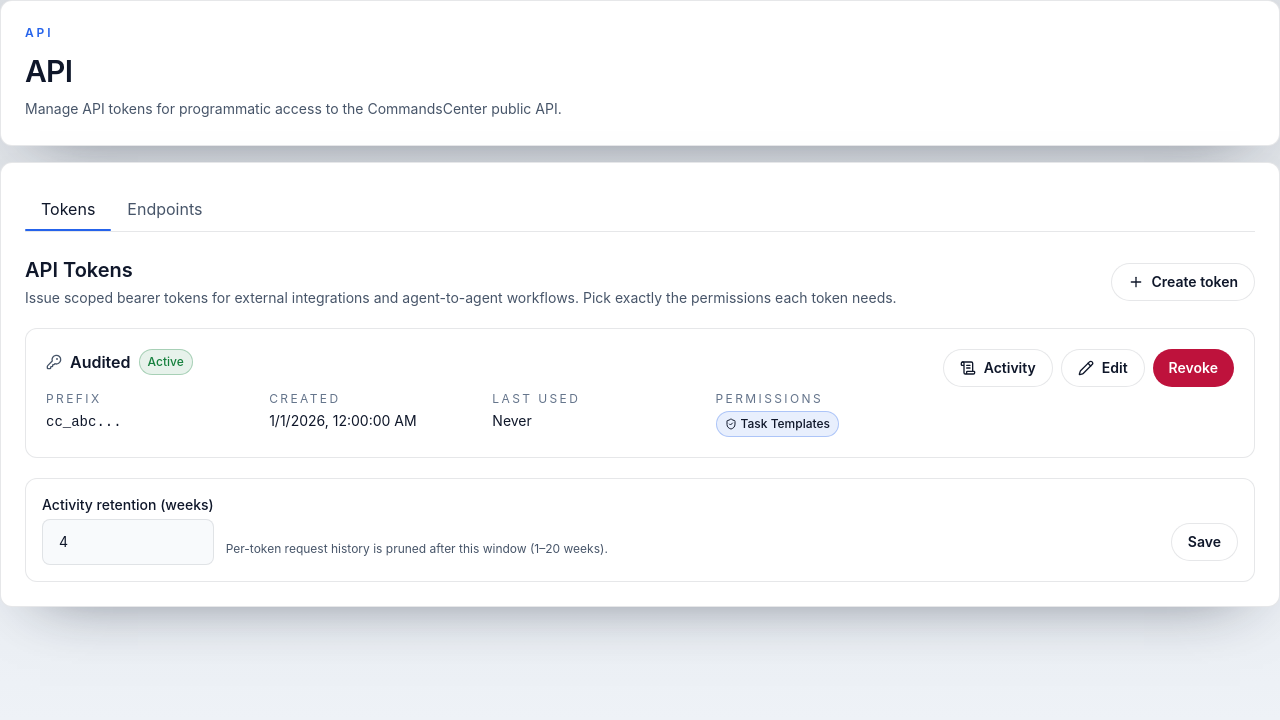
ApiPage › opens a token's activity dialog and lists its entries
Expected: the heading "Audited" is shown, [70,350,130,374]
Click the button "Activity": x=998, y=368 [943,349,1053,387]
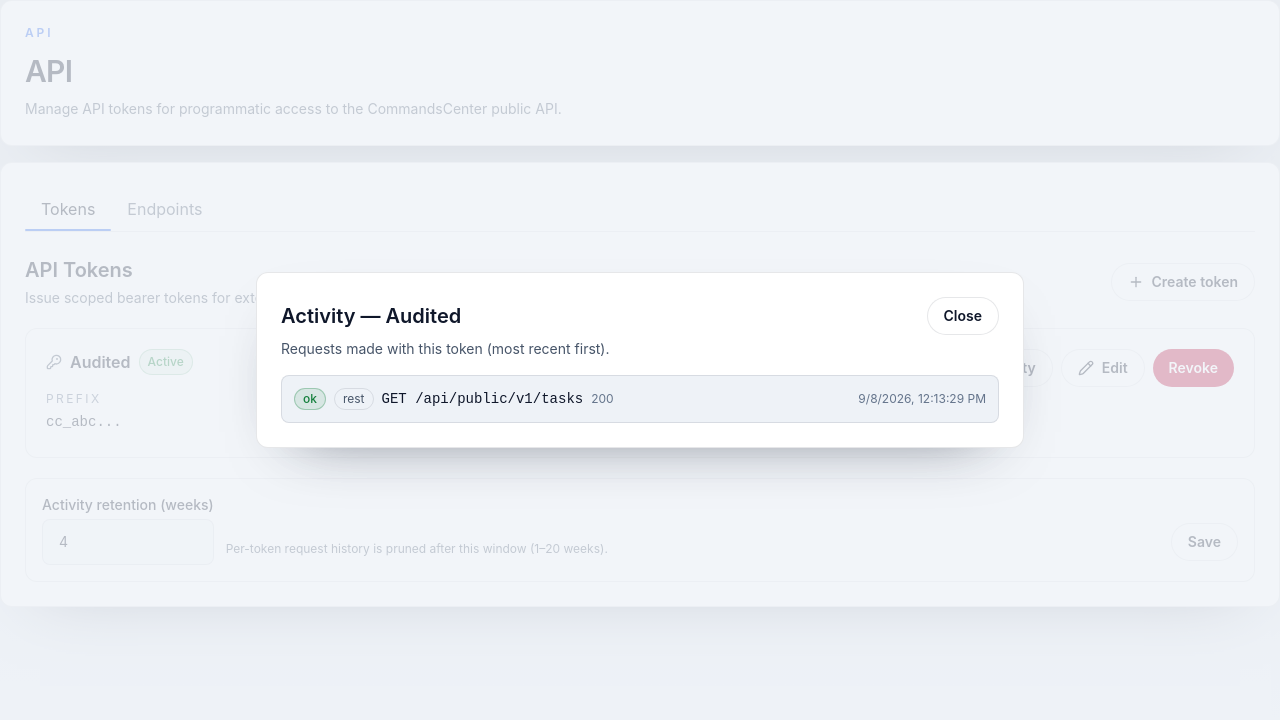
Expected: the text "GET /api/public/v1/tasks" is shown, [382,389,583,409]
